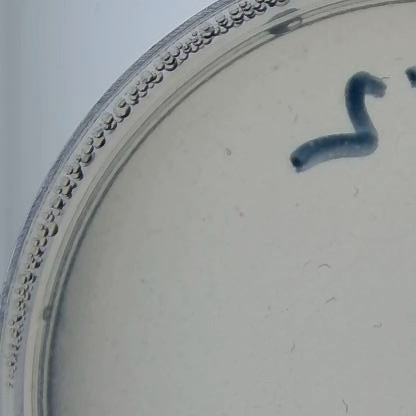worm: (320, 291, 343, 313), (334, 395, 356, 416), (285, 112, 310, 130), (223, 141, 237, 162), (347, 183, 362, 202), (235, 202, 250, 220), (370, 317, 385, 334), (288, 334, 299, 355), (317, 262, 335, 274), (303, 256, 316, 272), (329, 322, 340, 340)
